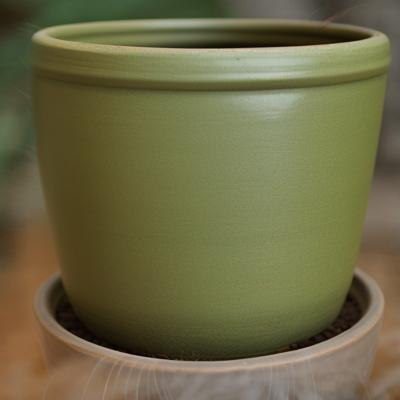pottedplant: (31, 16, 388, 378)
